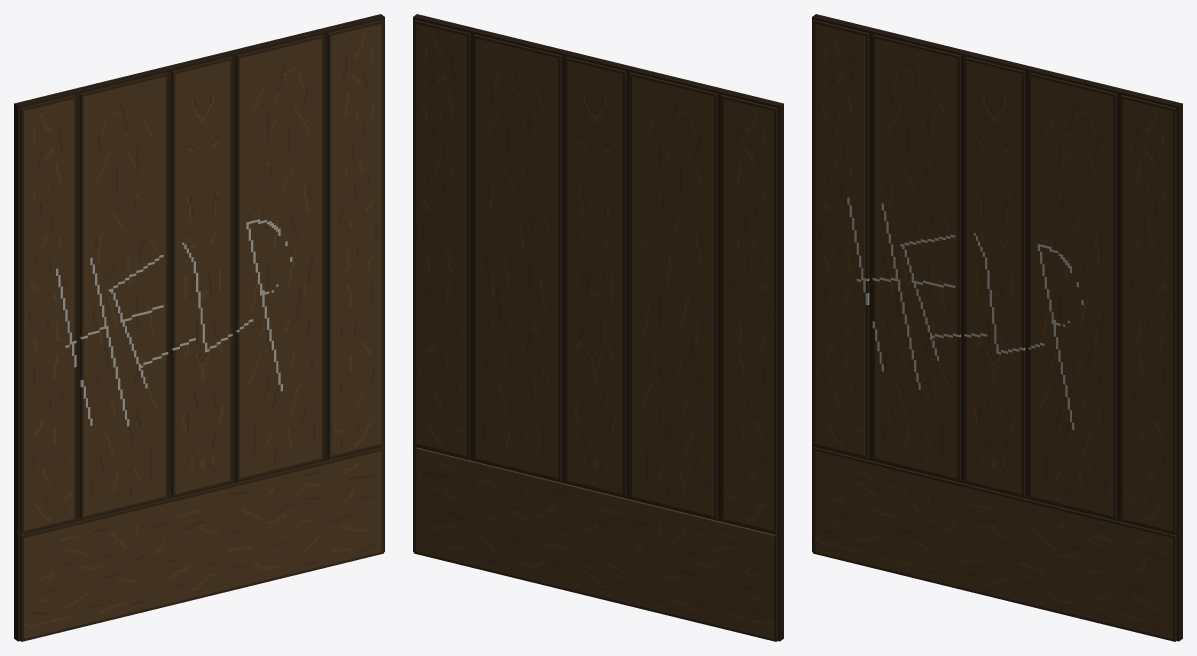
File: Help_Door_Written.obj
3 views of the same model, side by side, from view 1: azimuth 30°, elevation 25°; view 2: azimuth 150°, elevation 25°; view 3: azimuth 330°, elevation 25° (orthographic).
Size of the model in its own units: 16 by 22.3 by 0.5.
Materials: 1 (1 with a texture image).
